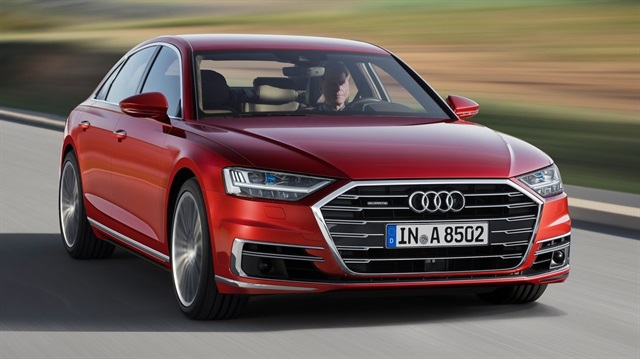audi: (402, 188, 468, 214)
